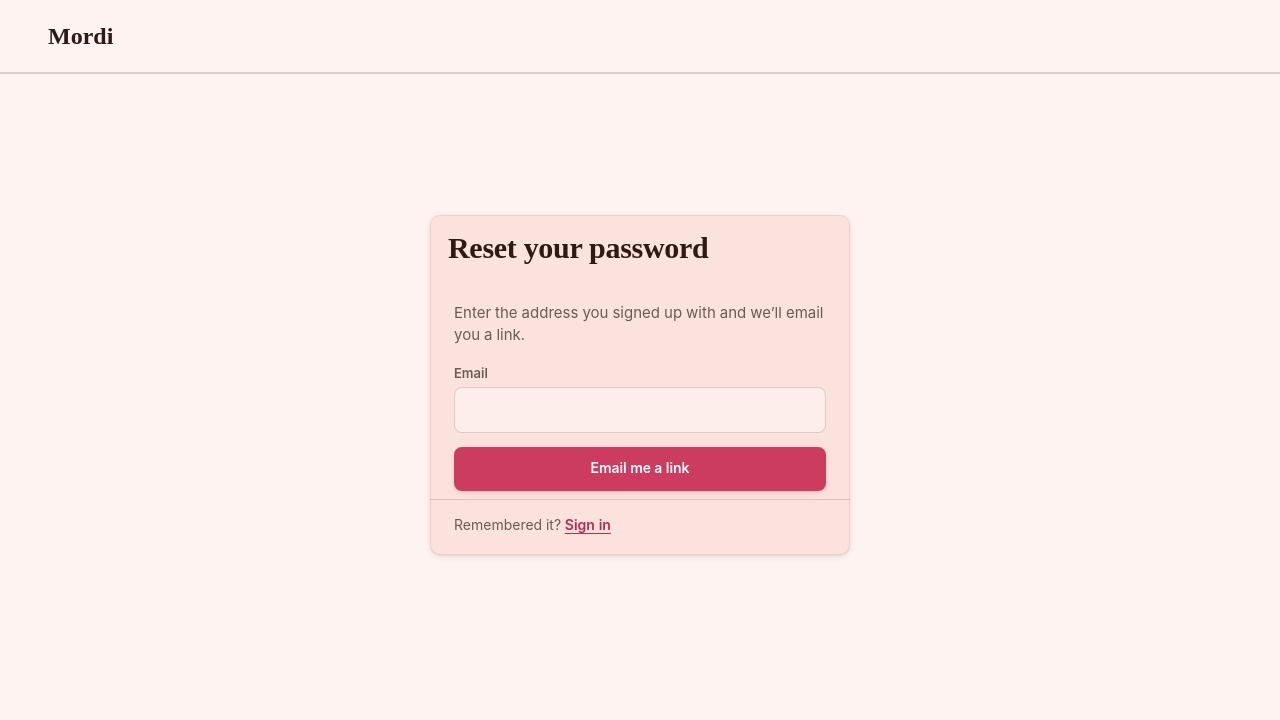
Scenario: ForgotPassword › explains when the server could not be reached
Type "ana@example.com" into the field labelled "Email". click: coordinates (640, 410)
box: [454, 387, 826, 433]
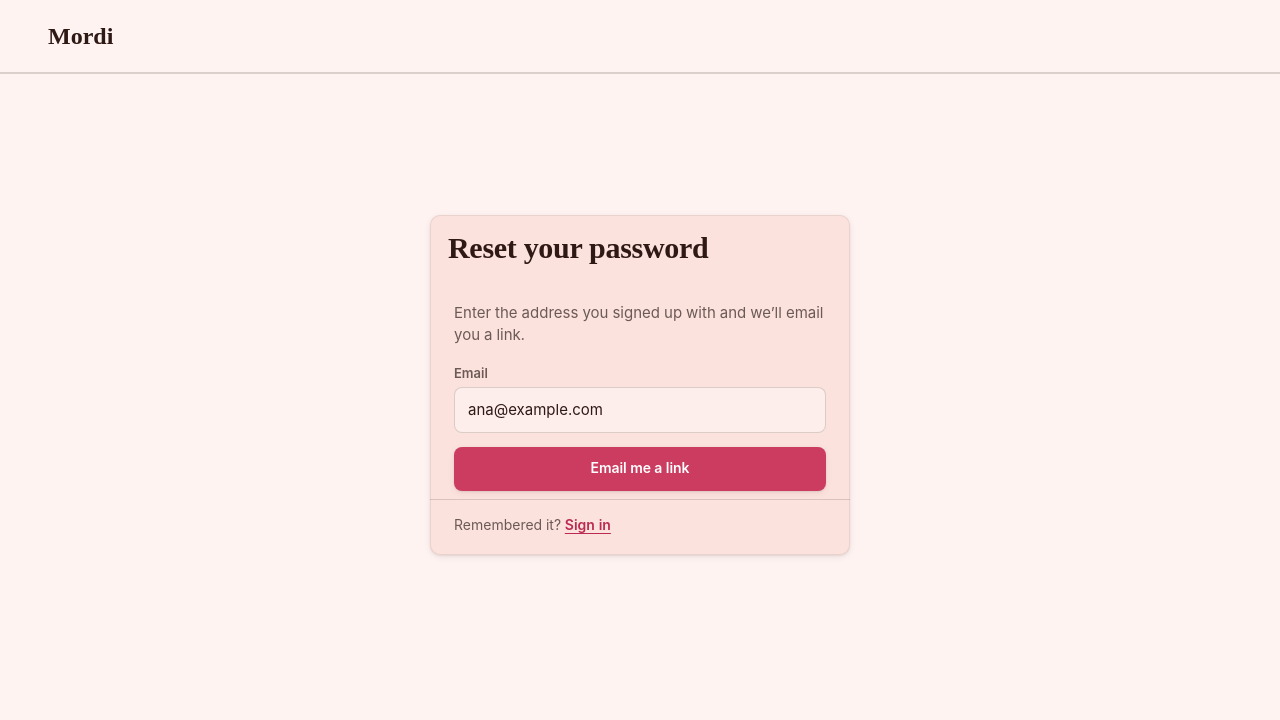
Click the button "Email me a link". click: coordinates (640, 469)
box: [454, 447, 826, 491]
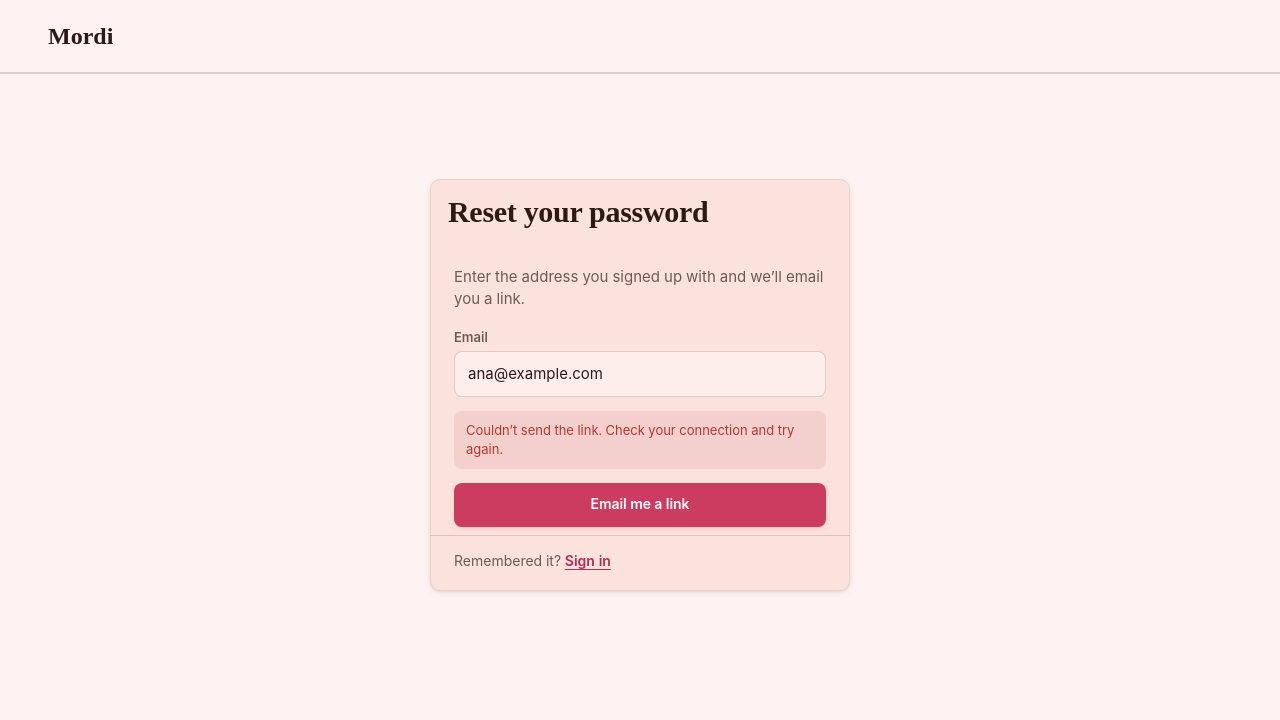
Now the message shows "send the link", box [466, 422, 794, 457]
